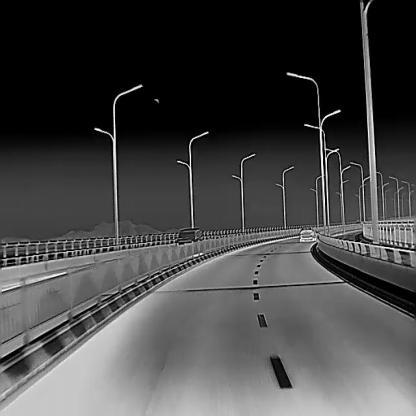car: (178, 226, 201, 241), (299, 225, 316, 241)
